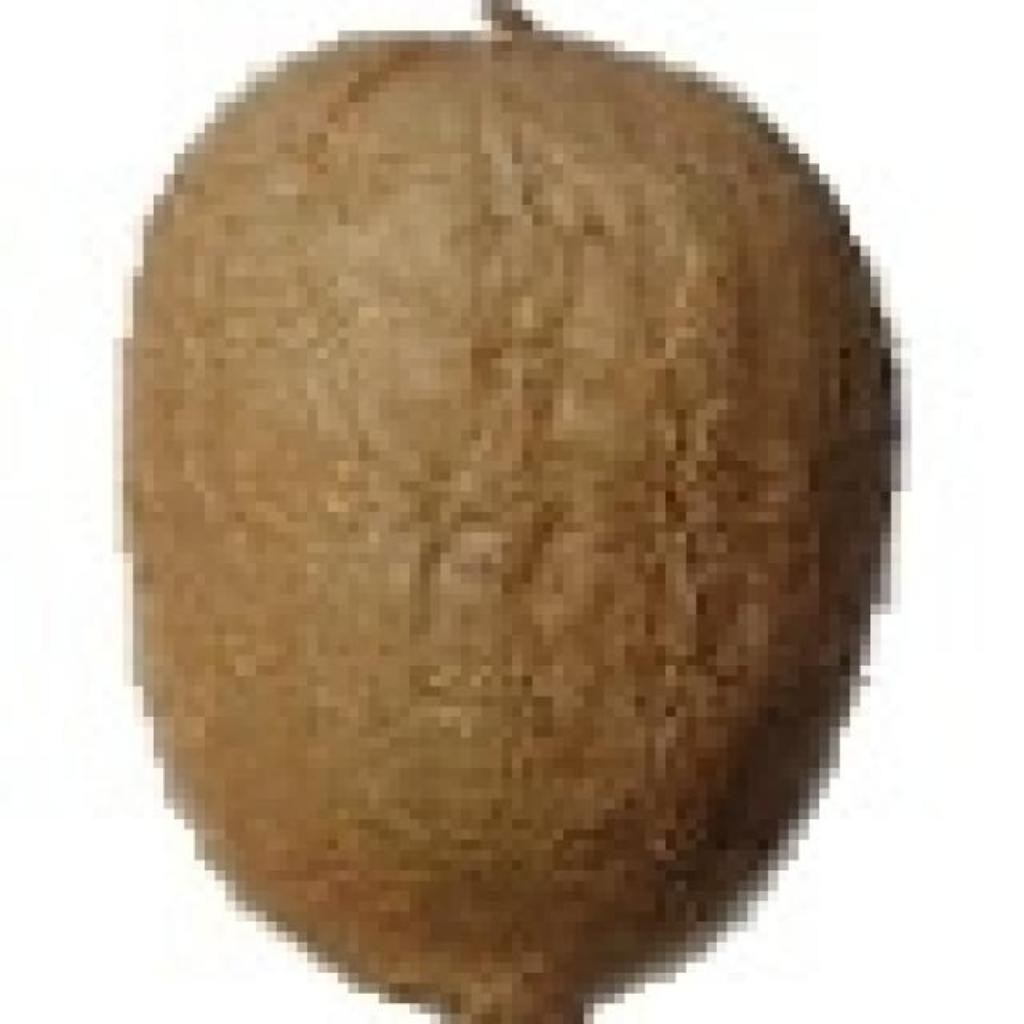kiwi: (113, 20, 870, 1004)
